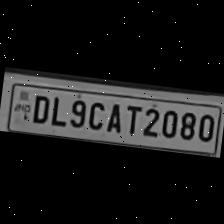0: (194, 108, 218, 142), (157, 104, 180, 138)
2: (138, 102, 161, 137)
8: (176, 106, 196, 140)
9: (64, 94, 88, 128)
A: (102, 97, 125, 132)
C: (84, 96, 108, 130)
D: (26, 90, 52, 124)
L: (46, 91, 68, 126)
T: (120, 100, 142, 134)
